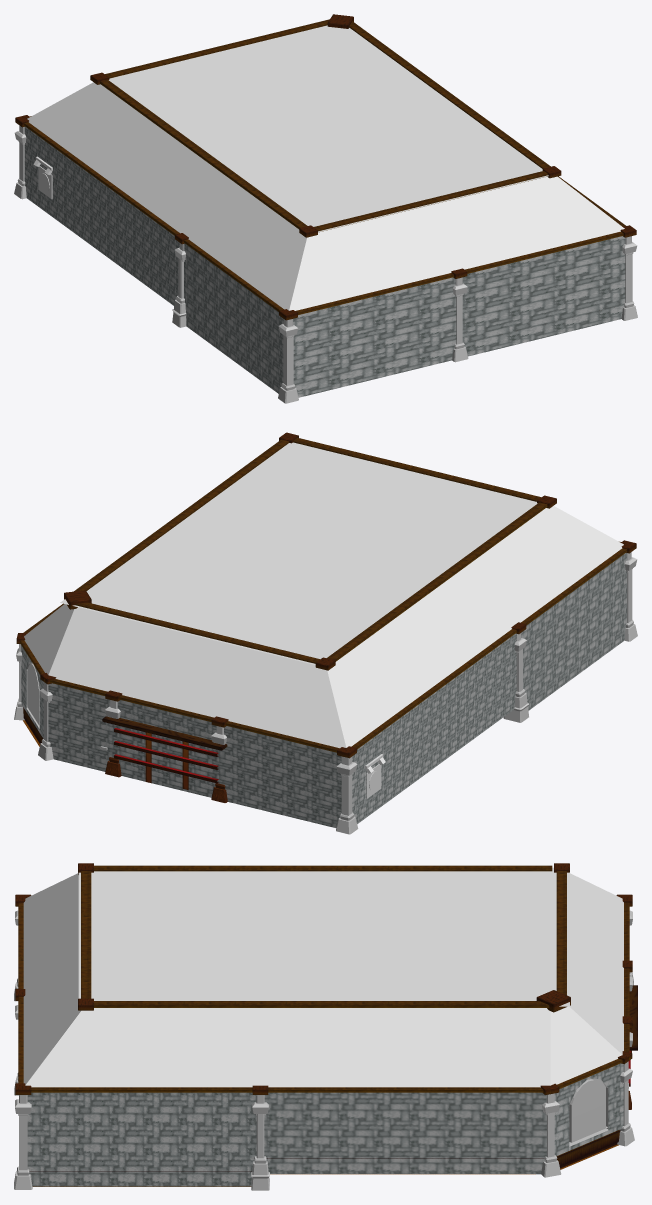
File: Dardos_Escenario2.fbx
3 renders of one model, top to bottom at view 1: azimuth 30°, elevation 25°; view 2: azimuth 150°, elevation 25°; view 3: azimuth 270°, elevation 25°, orthographic. The views are drawn at different scales.
Parts seen in each view (by area): view 1: Plane.019, Plane.020, Plane.014, Plane.001, Plane.012, TopColumn.012, TopColumn.011, TopColumn.003, TopColumn.013, TopColumn.014, TopColumn.007, PlayerSizeRef.010 (+4 smaller); view 2: Plane.019, Plane.020, Plane.002, Plane.001, Plane.012, TopColumn.012, TopColumn.011, TopColumn.013, TopColumn.014, TopColumn.009, TopColumn.007, PlayerSizeRef.006 (+5 smaller); view 3: Plane.019, Plane.020, Plane.004, Plane.016, TopColumn.012, TopColumn.011, Window_Wall, Plane.018, TopColumn.008, TopColumn.013, TopColumn.014, TopColumn.005 (+9 smaller).
Boxes of the visible parts, x1,y1,x2,y2 form: Plane.019: (109, 21, 548, 232); Plane.020: (27, 82, 624, 310); Plane.014: (293, 236, 625, 397); Plane.001: (24, 126, 179, 305); Plane.012: (184, 243, 283, 393); TopColumn.012: (100, 79, 307, 229); TopColumn.011: (349, 21, 550, 168); TopColumn.003: (295, 231, 623, 314); TopColumn.013: (314, 171, 548, 232); TopColumn.014: (105, 19, 329, 78); TopColumn.007: (24, 122, 179, 235); PlayerSizeRef.010: (278, 336, 298, 403); Plane.019: (60, 442, 537, 664); Plane.020: (24, 506, 623, 748); Plane.002: (48, 683, 341, 827); Plane.001: (352, 633, 516, 823); Plane.012: (521, 553, 626, 710); TopColumn.012: (327, 502, 547, 661); TopColumn.011: (74, 439, 289, 591); TopColumn.013: (293, 437, 541, 501); TopColumn.014: (75, 602, 319, 663); TopColumn.009: (50, 679, 339, 752); TopColumn.007: (351, 629, 516, 749); PlayerSizeRef.006: (102, 716, 227, 750); Plane.019: (78, 867, 569, 1006); Plane.020: (23, 873, 623, 1087); Plane.004: (264, 1092, 546, 1174); Plane.016: (27, 1092, 256, 1186); TopColumn.012: (94, 865, 552, 871); TopColumn.011: (94, 1001, 549, 1007); Window_Wall: (554, 1063, 623, 1156); Plane.018: (569, 1078, 608, 1146); TopColumn.008: (268, 1087, 543, 1092); TopColumn.013: (81, 871, 91, 998); TopColumn.014: (556, 871, 566, 995); TopColumn.005: (31, 1087, 252, 1092).
Bounding box in the file's own units: 1837 × 688 × 2444.
